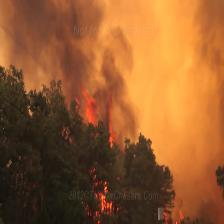fire: (71, 92, 135, 224)
smoke: (1, 0, 224, 106)
